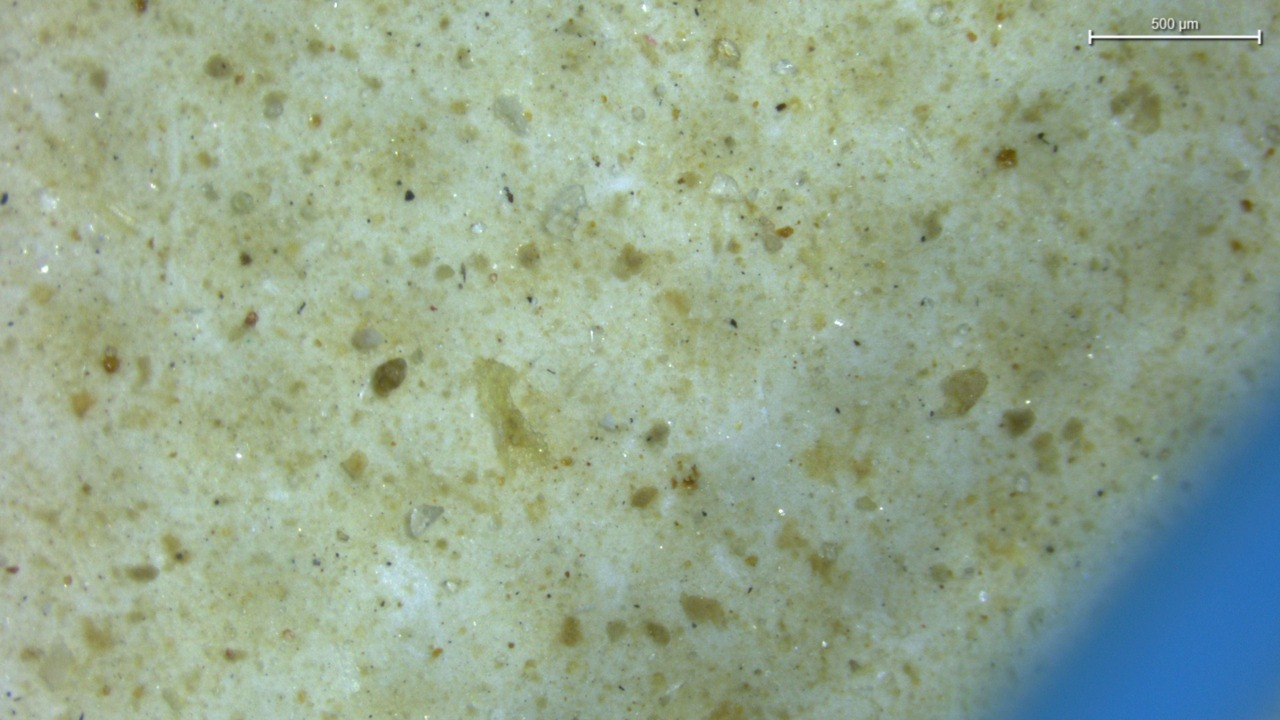microplastic_fragment: (409, 504, 444, 538), (352, 327, 383, 350)
